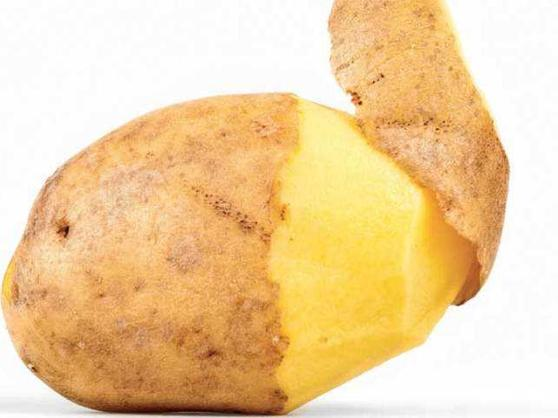potato: (1, 74, 493, 415)
